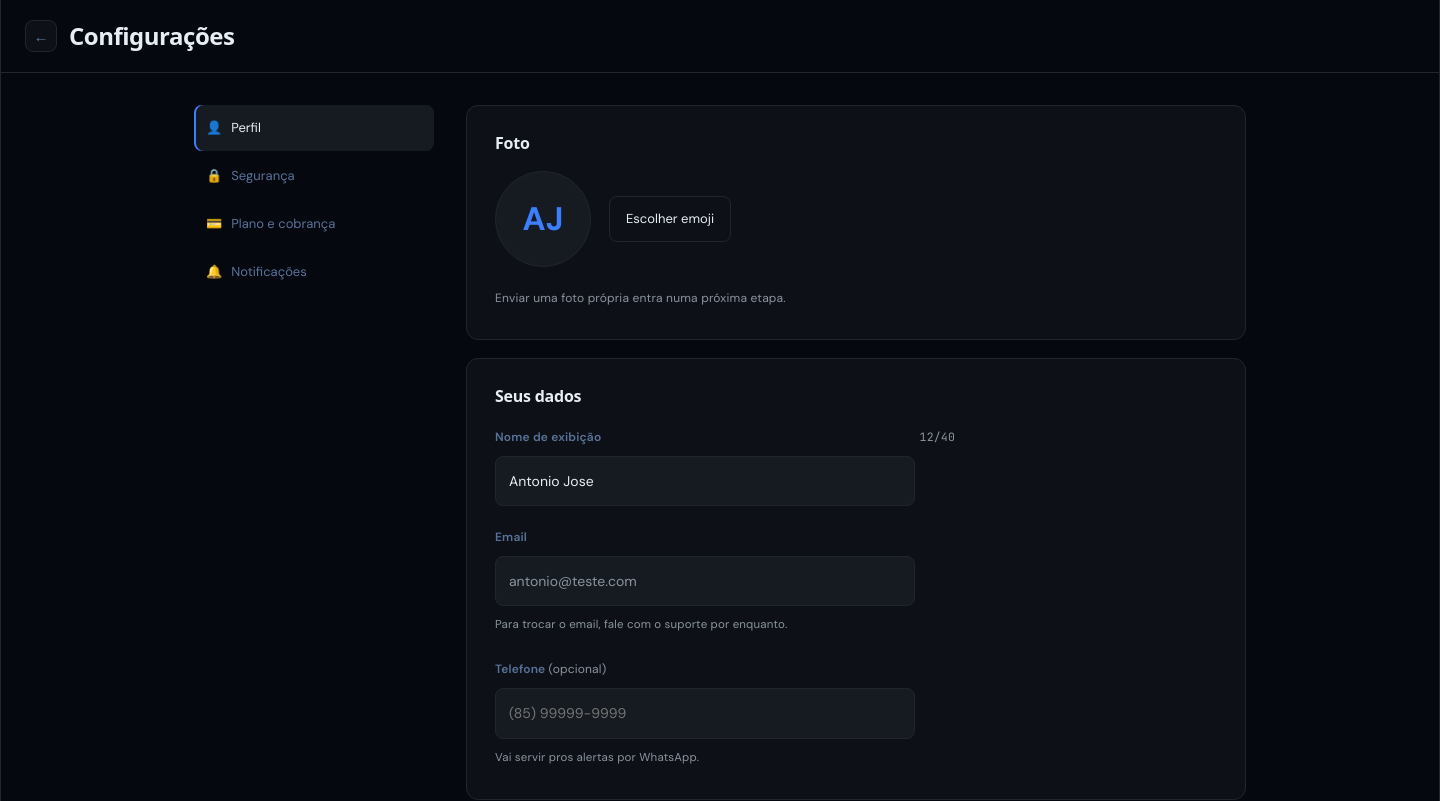
Test: Configurações — logado › escolher um emoji troca o avatar
Click the button "Escolher emoji": (670, 219) [609,196,731,242]
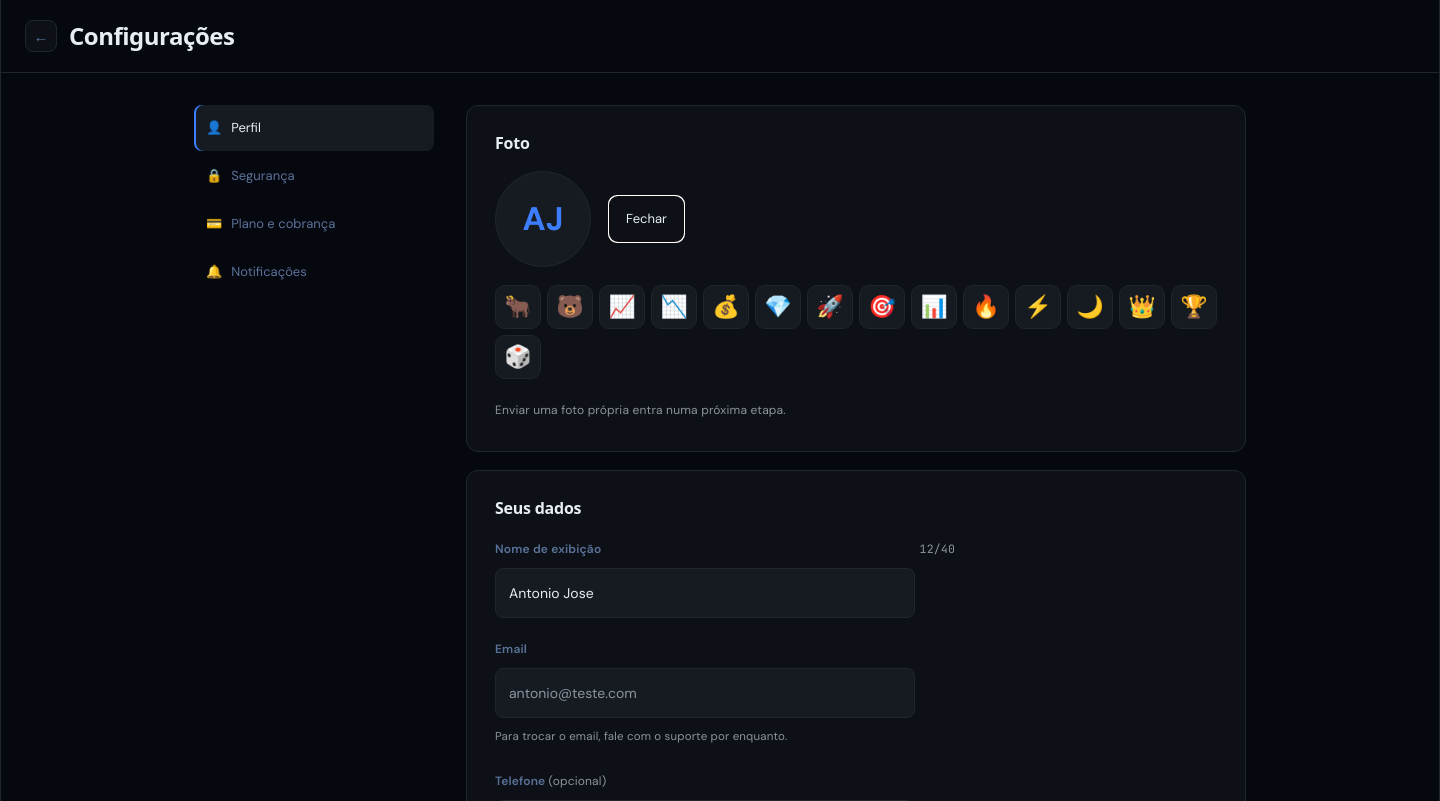
Click the button named "Touro — mercado em alta": (518, 307) [495,285,541,329]
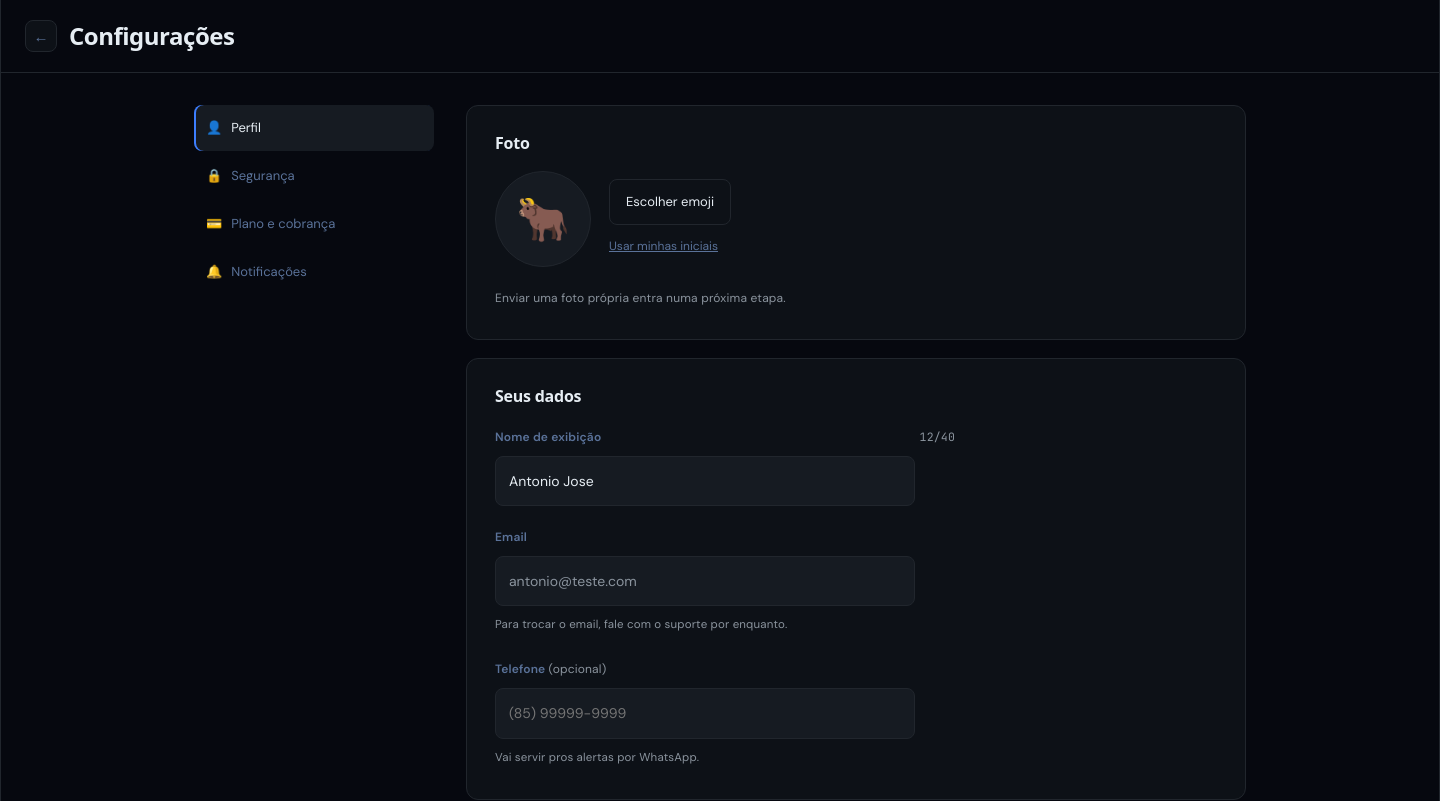
Expected: the text "🐂" is shown, [516,206,570,232]
